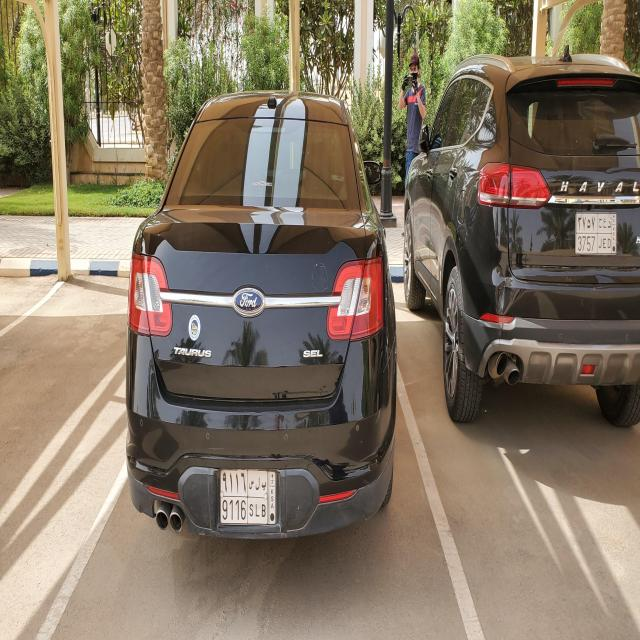license_plate: (220, 470, 275, 526), (576, 213, 616, 255)
